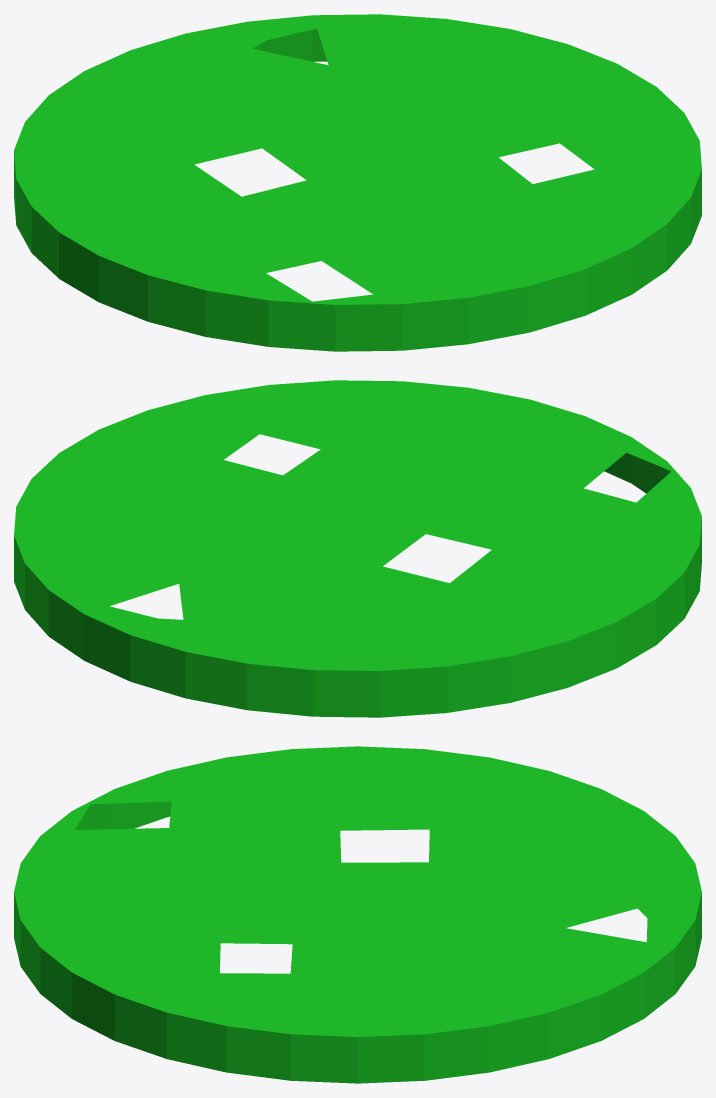
Rendered from bollfield2.obj.
3 renders of one model, top to bottom at view 1: azimuth 30°, elevation 25°; view 2: azimuth 150°, elevation 25°; view 3: azimuth 270°, elevation 25°, orthographic.
Visible parts, largest first — view 1: 円柱.002; view 2: 円柱.002; view 3: 円柱.002.
Boxes of the visible parts, x1=… form: 円柱.002: x1=14, y1=14, x2=701, y2=351; 円柱.002: x1=14, y1=380, x2=701, y2=717; 円柱.002: x1=14, y1=746, x2=701, y2=1083.
Size of the model in its own units: 40.13 by 2.99 by 40.13.
